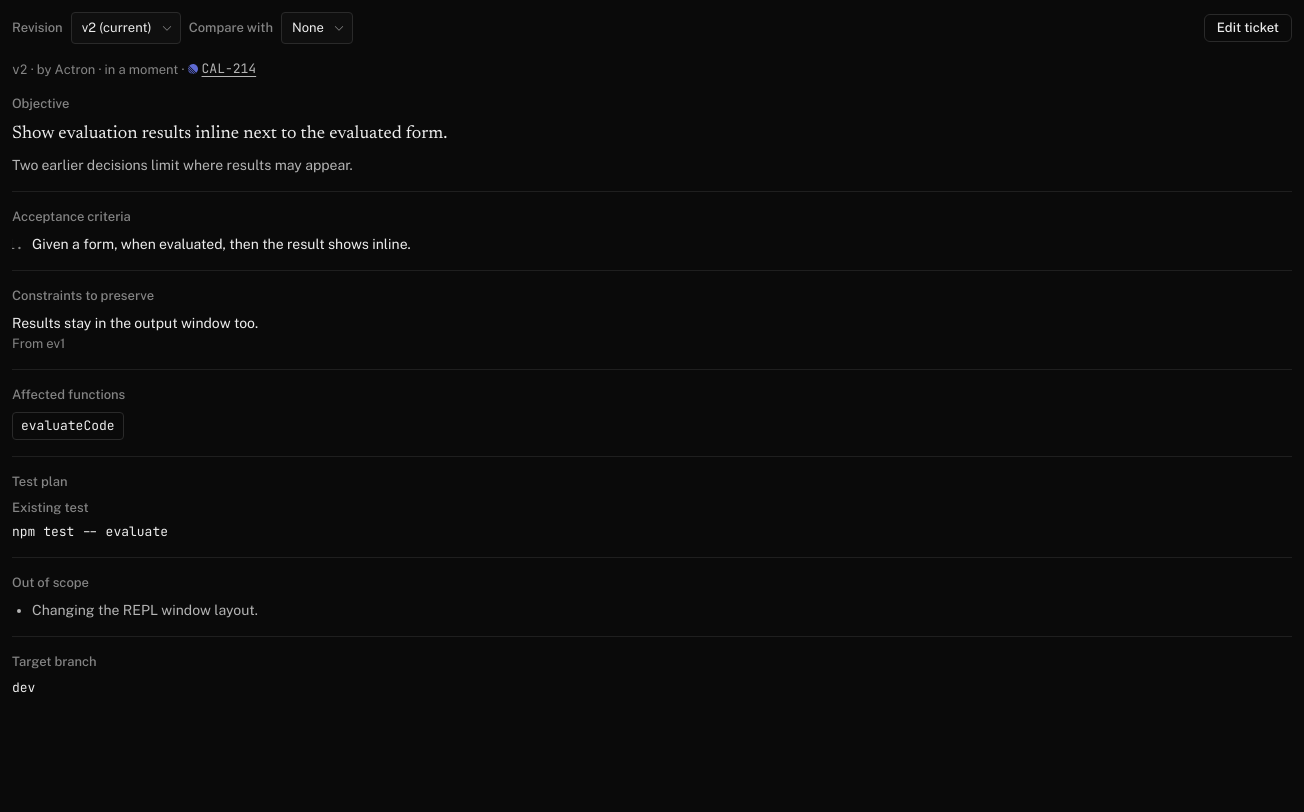
Test case: C-AC-8 TicketView › edits are not offered on older revisions
Step 1. Select "v1" in the dropdown labelled "Revision" → [126, 28], box [71, 12, 181, 44]
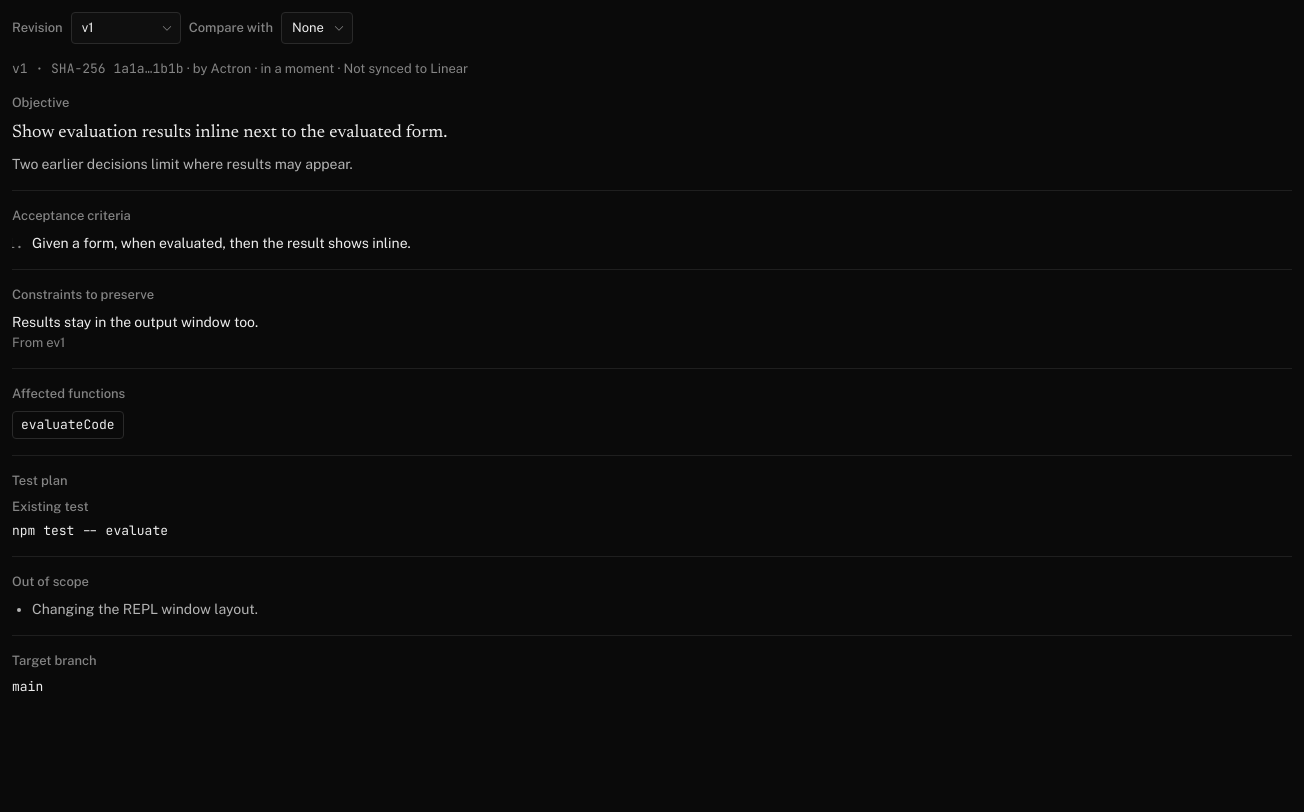
Check: the button "Edit ticket" is gone
